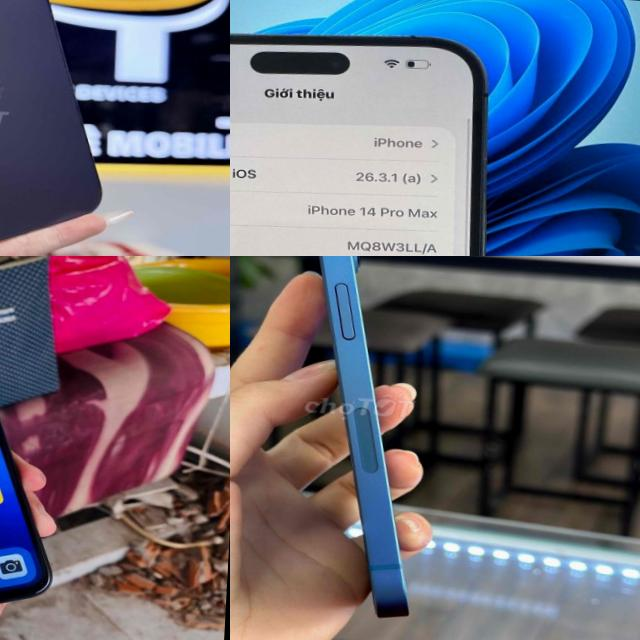gen_12_13: (282, 256, 439, 621)
gen_14: (230, 14, 529, 256), (0, 0, 124, 256)
gen_x_xs: (0, 276, 69, 636)
